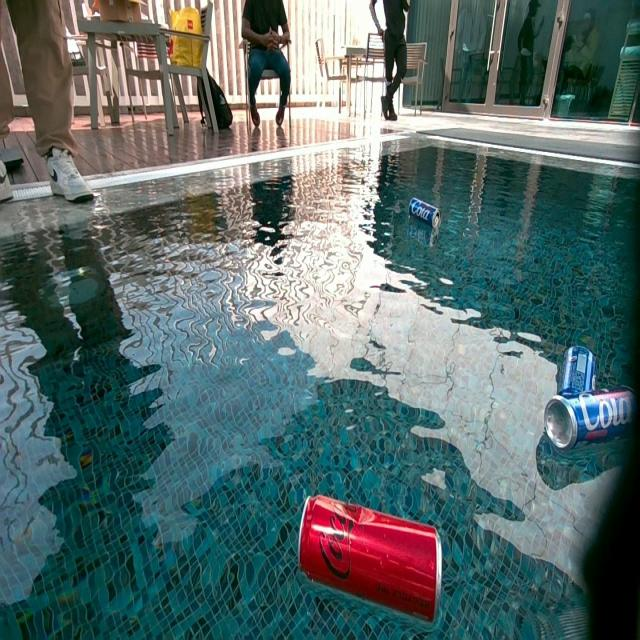Cans: (295, 496, 440, 627), (544, 388, 638, 456), (556, 343, 600, 389), (410, 198, 442, 230)
